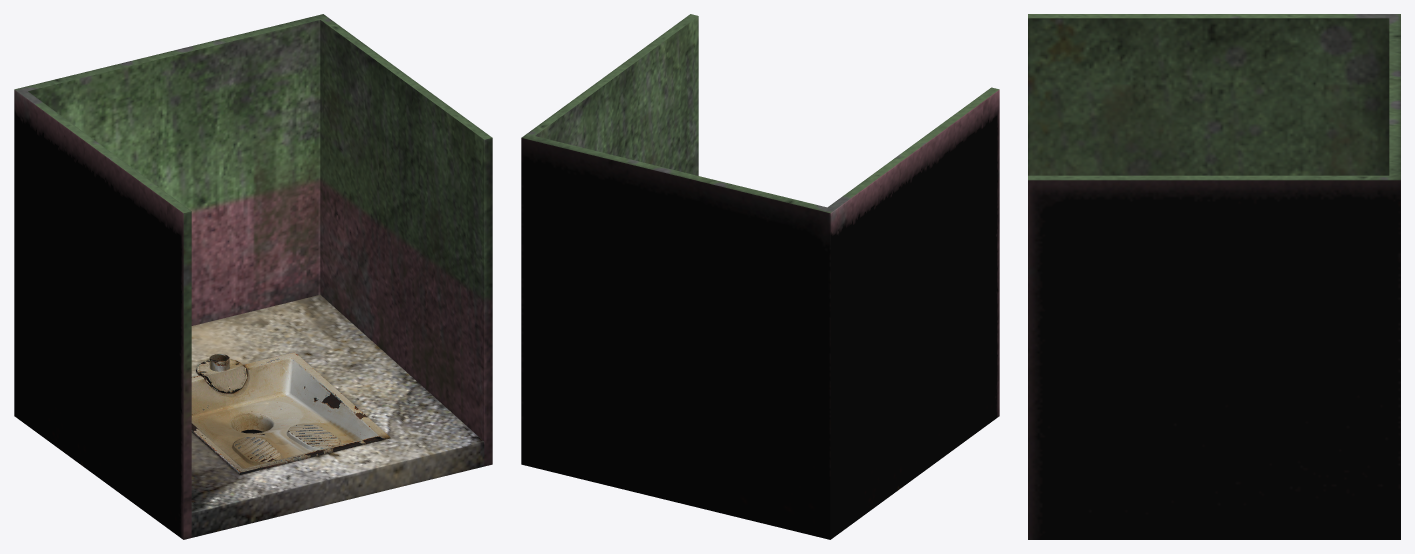
The model's file is Letrina.FBX.
3 renders of one model, left to right at view 1: azimuth 30°, elevation 25°; view 2: azimuth 150°, elevation 25°; view 3: azimuth 270°, elevation 25°, orthographic. The views are drawn at different scales.
Visible parts, largest first — view 1: broom, Letrina; view 2: broom; view 3: broom.
Boxes of the visible parts, bbox=[...] form: broom: bbox=[14, 14, 492, 539]; Letrina: bbox=[191, 352, 390, 474]; broom: bbox=[521, 14, 999, 539]; broom: bbox=[1028, 14, 1400, 539].
Bounding box in the file's own units: 294 × 297 × 279.
Materials: 2 (2 with a texture image).
